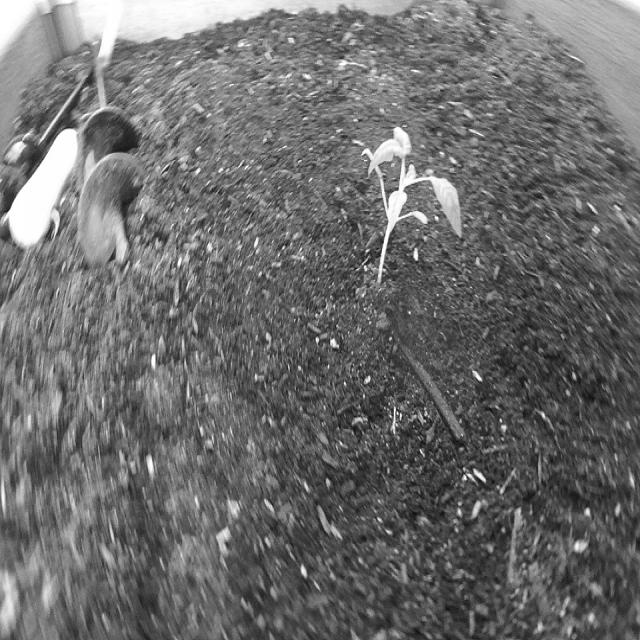Healthy: (358, 117, 469, 293)
